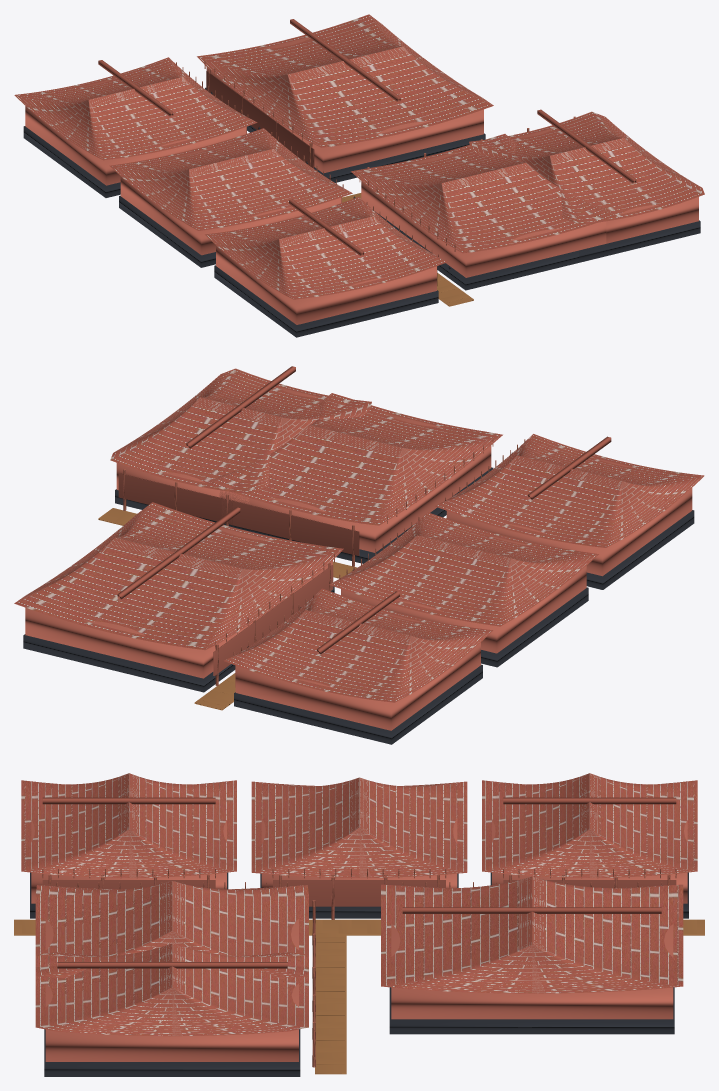
3 views of the same model, one above another, from view 1: azimuth 30°, elevation 25°; view 2: azimuth 150°, elevation 25°; view 3: azimuth 270°, elevation 25° (orthographic). The views are drawn at different scales.
Visible parts, largest first — view 1: ikseon_hanok_giwa_roofs, ikseon_urban_hanok_structures, ikseon_brick_walls_and_courtyards, ikseon_maze_alley_pavement; view 2: ikseon_hanok_giwa_roofs, ikseon_urban_hanok_structures, ikseon_brick_walls_and_courtyards, ikseon_maze_alley_pavement; view 3: ikseon_hanok_giwa_roofs, ikseon_urban_hanok_structures, ikseon_brick_walls_and_courtyards, ikseon_maze_alley_pavement.
Part boxes in pixels (x1=…): ikseon_hanok_giwa_roofs: x1=14, y1=14, x2=704, y2=299; ikseon_urban_hanok_structures: x1=25, y1=37, x2=698, y2=324; ikseon_brick_walls_and_courtyards: x1=23, y1=87, x2=700, y2=337; ikseon_maze_alley_pavement: x1=211, y1=91, x2=473, y2=306; ikseon_hanok_giwa_roofs: x1=14, y1=366, x2=704, y2=702; ikseon_urban_hanok_structures: x1=25, y1=387, x2=692, y2=730; ikseon_brick_walls_and_courtyards: x1=23, y1=467, x2=694, y2=744; ikseon_maze_alley_pavement: x1=98, y1=452, x2=512, y2=710; ikseon_hanok_giwa_roofs: x1=21, y1=773, x2=697, y2=1036; ikseon_urban_hanok_structures: x1=31, y1=818, x2=687, y2=1067; ikseon_brick_walls_and_courtyards: x1=30, y1=872, x2=688, y2=1076; ikseon_maze_alley_pavement: x1=14, y1=919, x2=704, y2=1074.
Size of the model in its own units: 41 by 5.97 by 48.
4 materials, 4 textured.
